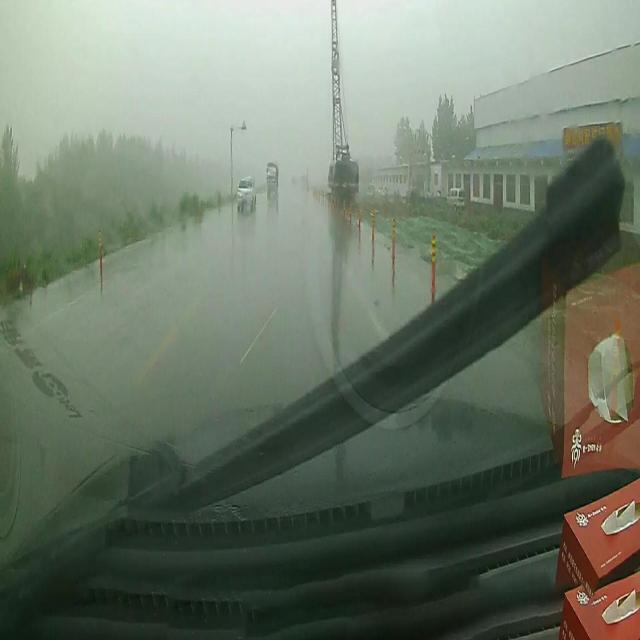car: (236, 176, 256, 211)
